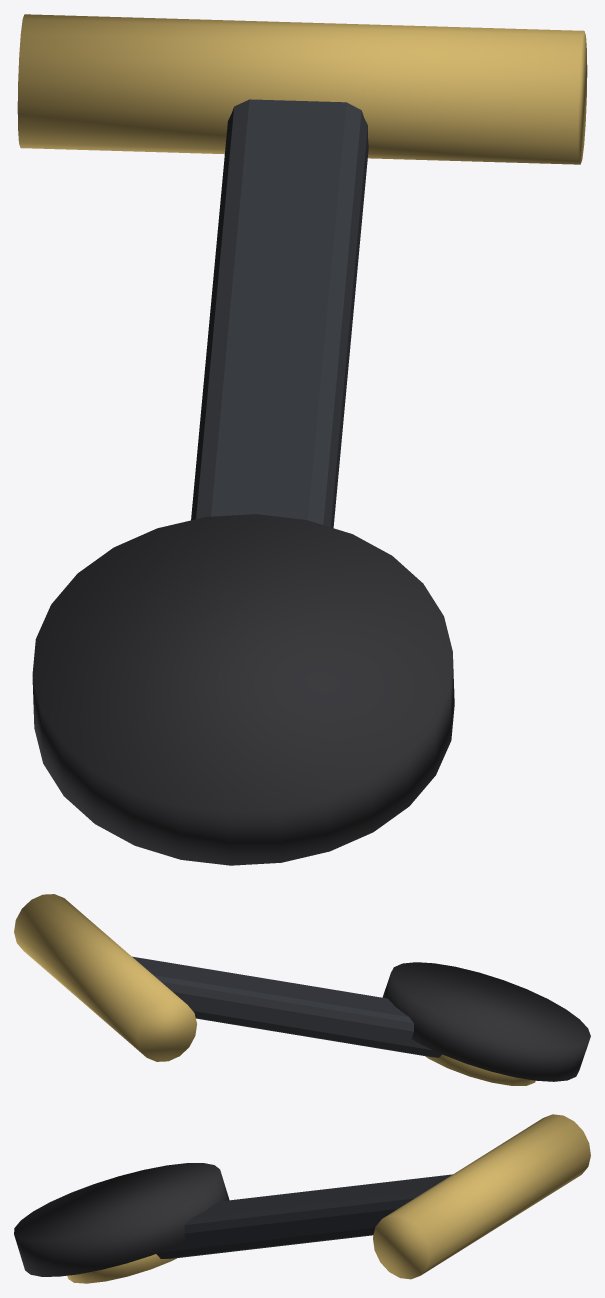
File: key.glb
3 views of the same model, one above another, from view 1: azimuth 30°, elevation 25°; view 2: azimuth 150°, elevation 25°; view 3: azimuth 270°, elevation 25° (orthographic). The views are drawn at different scales.
Parts seen in each view (by area): view 1: kvs_key_knob, kvs_key_trunnion, kvs_key_arm; view 2: kvs_key_knob, kvs_key_trunnion, kvs_key_arm, kvs_key_skirt; view 3: kvs_key_trunnion, kvs_key_knob, kvs_key_arm, kvs_key_skirt.
Boxes of the visible parts, left/top/right/bottom form: kvs_key_knob: left=32, top=514, right=454, bottom=865; kvs_key_trunnion: left=17, top=14, right=587, bottom=164; kvs_key_arm: left=191, top=99, right=368, bottom=527; kvs_key_knob: left=382, top=962, right=590, bottom=1081; kvs_key_trunnion: left=14, top=894, right=196, bottom=1061; kvs_key_arm: left=132, top=956, right=441, bottom=1057; kvs_key_skirt: left=425, top=1054, right=535, bottom=1085; kvs_key_trunnion: left=373, top=1114, right=590, bottom=1279; kvs_key_knob: left=14, top=1163, right=229, bottom=1276; kvs_key_arm: left=156, top=1174, right=452, bottom=1258; kvs_key_skirt: left=67, top=1254, right=176, bottom=1283.
Size of the model in its own units: 0.0885 by 0.0425 by 0.1041.
